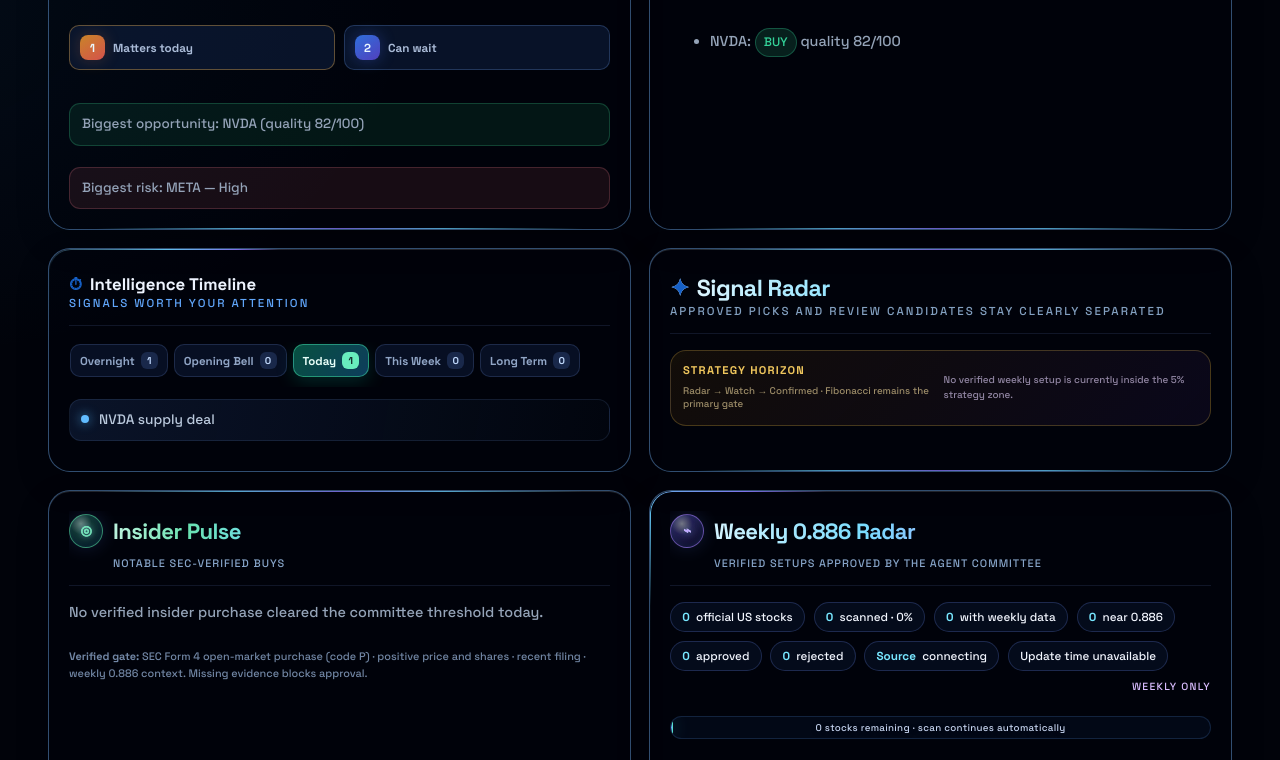
Test: HomeScreen › Sprint 28 — Intelligence Timeline defaults to Today and switches sections on click, with real per-section counts
(page scrolled)
Check: the text "NVDA supply deal" is shown, box 99,410 -> 215,430
What coordinates should you click on to do the following:
click the text "Overnight"
I would click on:
 (107, 360)
Its box is 80,354 -> 135,368.
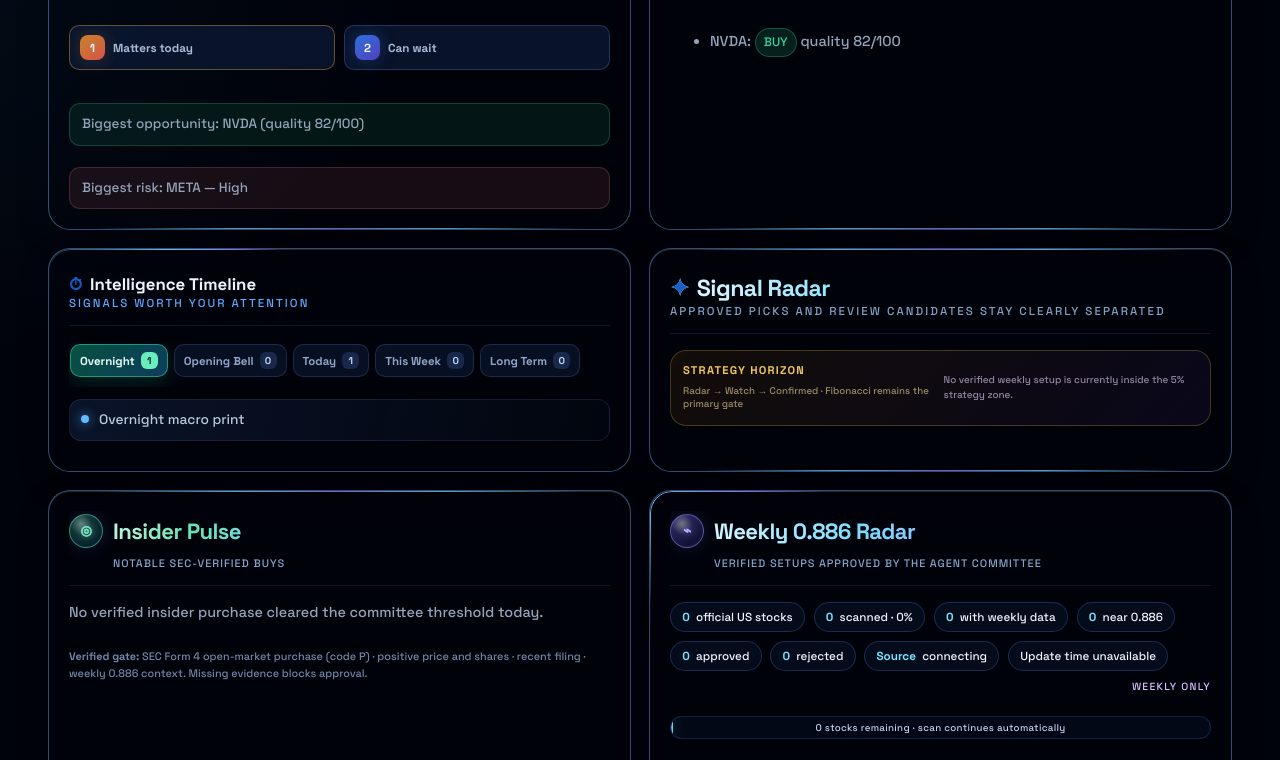
Check: the text "Overnight macro print" is shown, box 99,410 -> 245,430
